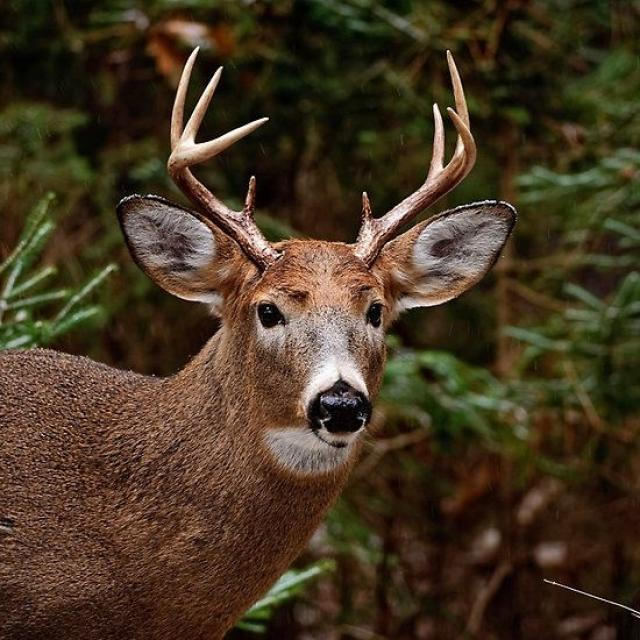L-F: (353, 105, 477, 267)
L-G1: (361, 190, 374, 227)
L-G2: (427, 101, 445, 179)
R-F: (167, 117, 282, 270)
R-G1: (237, 174, 257, 222)
R-G2: (170, 44, 201, 154)
R-G3: (182, 65, 224, 144)
